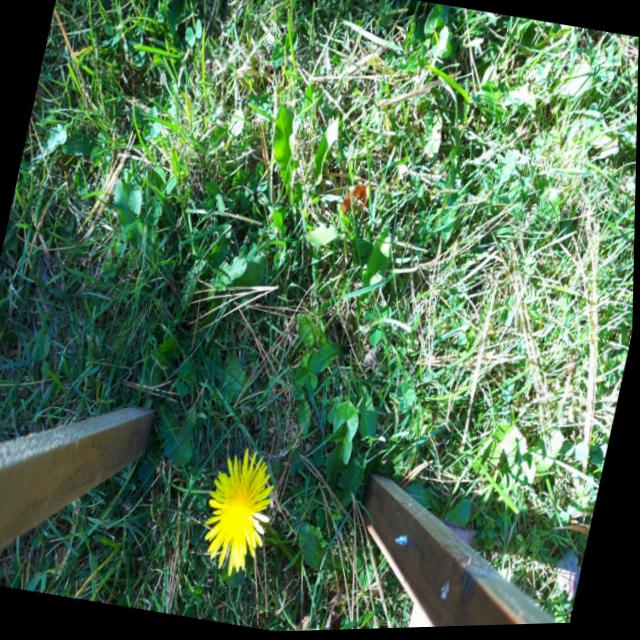base: (284, 545, 306, 576)
flower: (193, 445, 286, 583)
